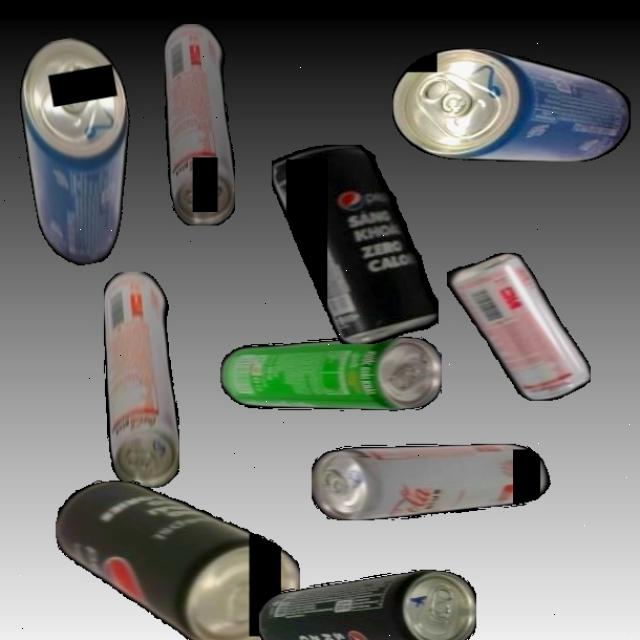debris: (54, 480, 300, 640), (8, 30, 154, 271), (272, 144, 438, 344), (392, 47, 630, 162), (446, 253, 591, 401), (312, 443, 553, 520), (219, 336, 442, 411), (103, 271, 179, 488), (258, 569, 476, 640), (164, 23, 235, 226)
